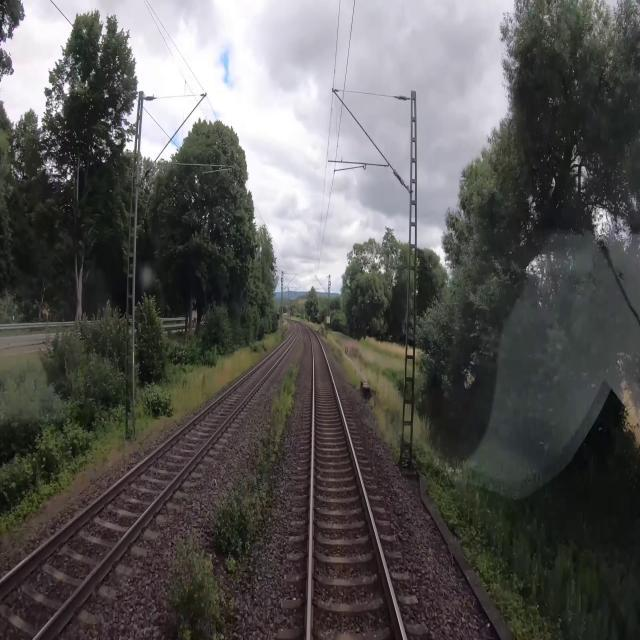Plant: (168, 543, 241, 639), (207, 476, 273, 573), (250, 360, 300, 478)
